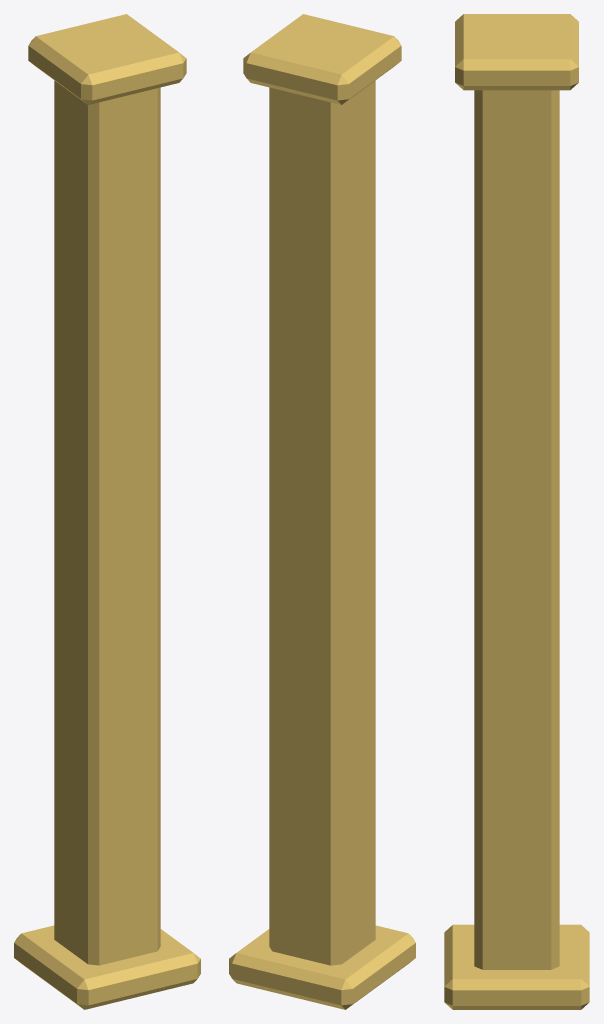
Rendered from SM_Post_0p25x3p05x0p25.glb.
3 views of the same model, side by side, from view 1: azimuth 30°, elevation 25°; view 2: azimuth 150°, elevation 25°; view 3: azimuth 270°, elevation 25° (orthographic).
Visible parts, largest first — view 1: SM_Post_0p25x3p05x0p25; view 2: SM_Post_0p25x3p05x0p25; view 3: SM_Post_0p25x3p05x0p25.
Part boxes in pixels (<box>): SM_Post_0p25x3p05x0p25: <box>14,14,200,1009</box>; SM_Post_0p25x3p05x0p25: <box>229,14,415,1009</box>; SM_Post_0p25x3p05x0p25: <box>444,14,589,1009</box>.
Bounding box in the file's own units: 0.425 × 3.05 × 0.425.
